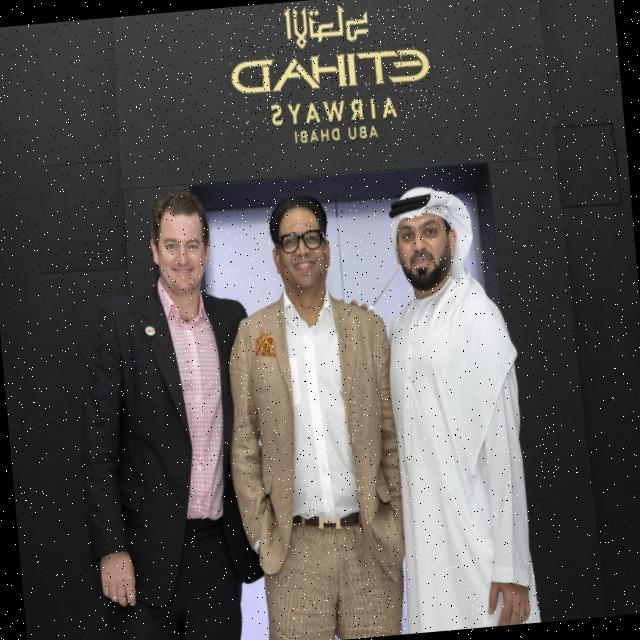Etihad Airways: (222, 0, 434, 134)
